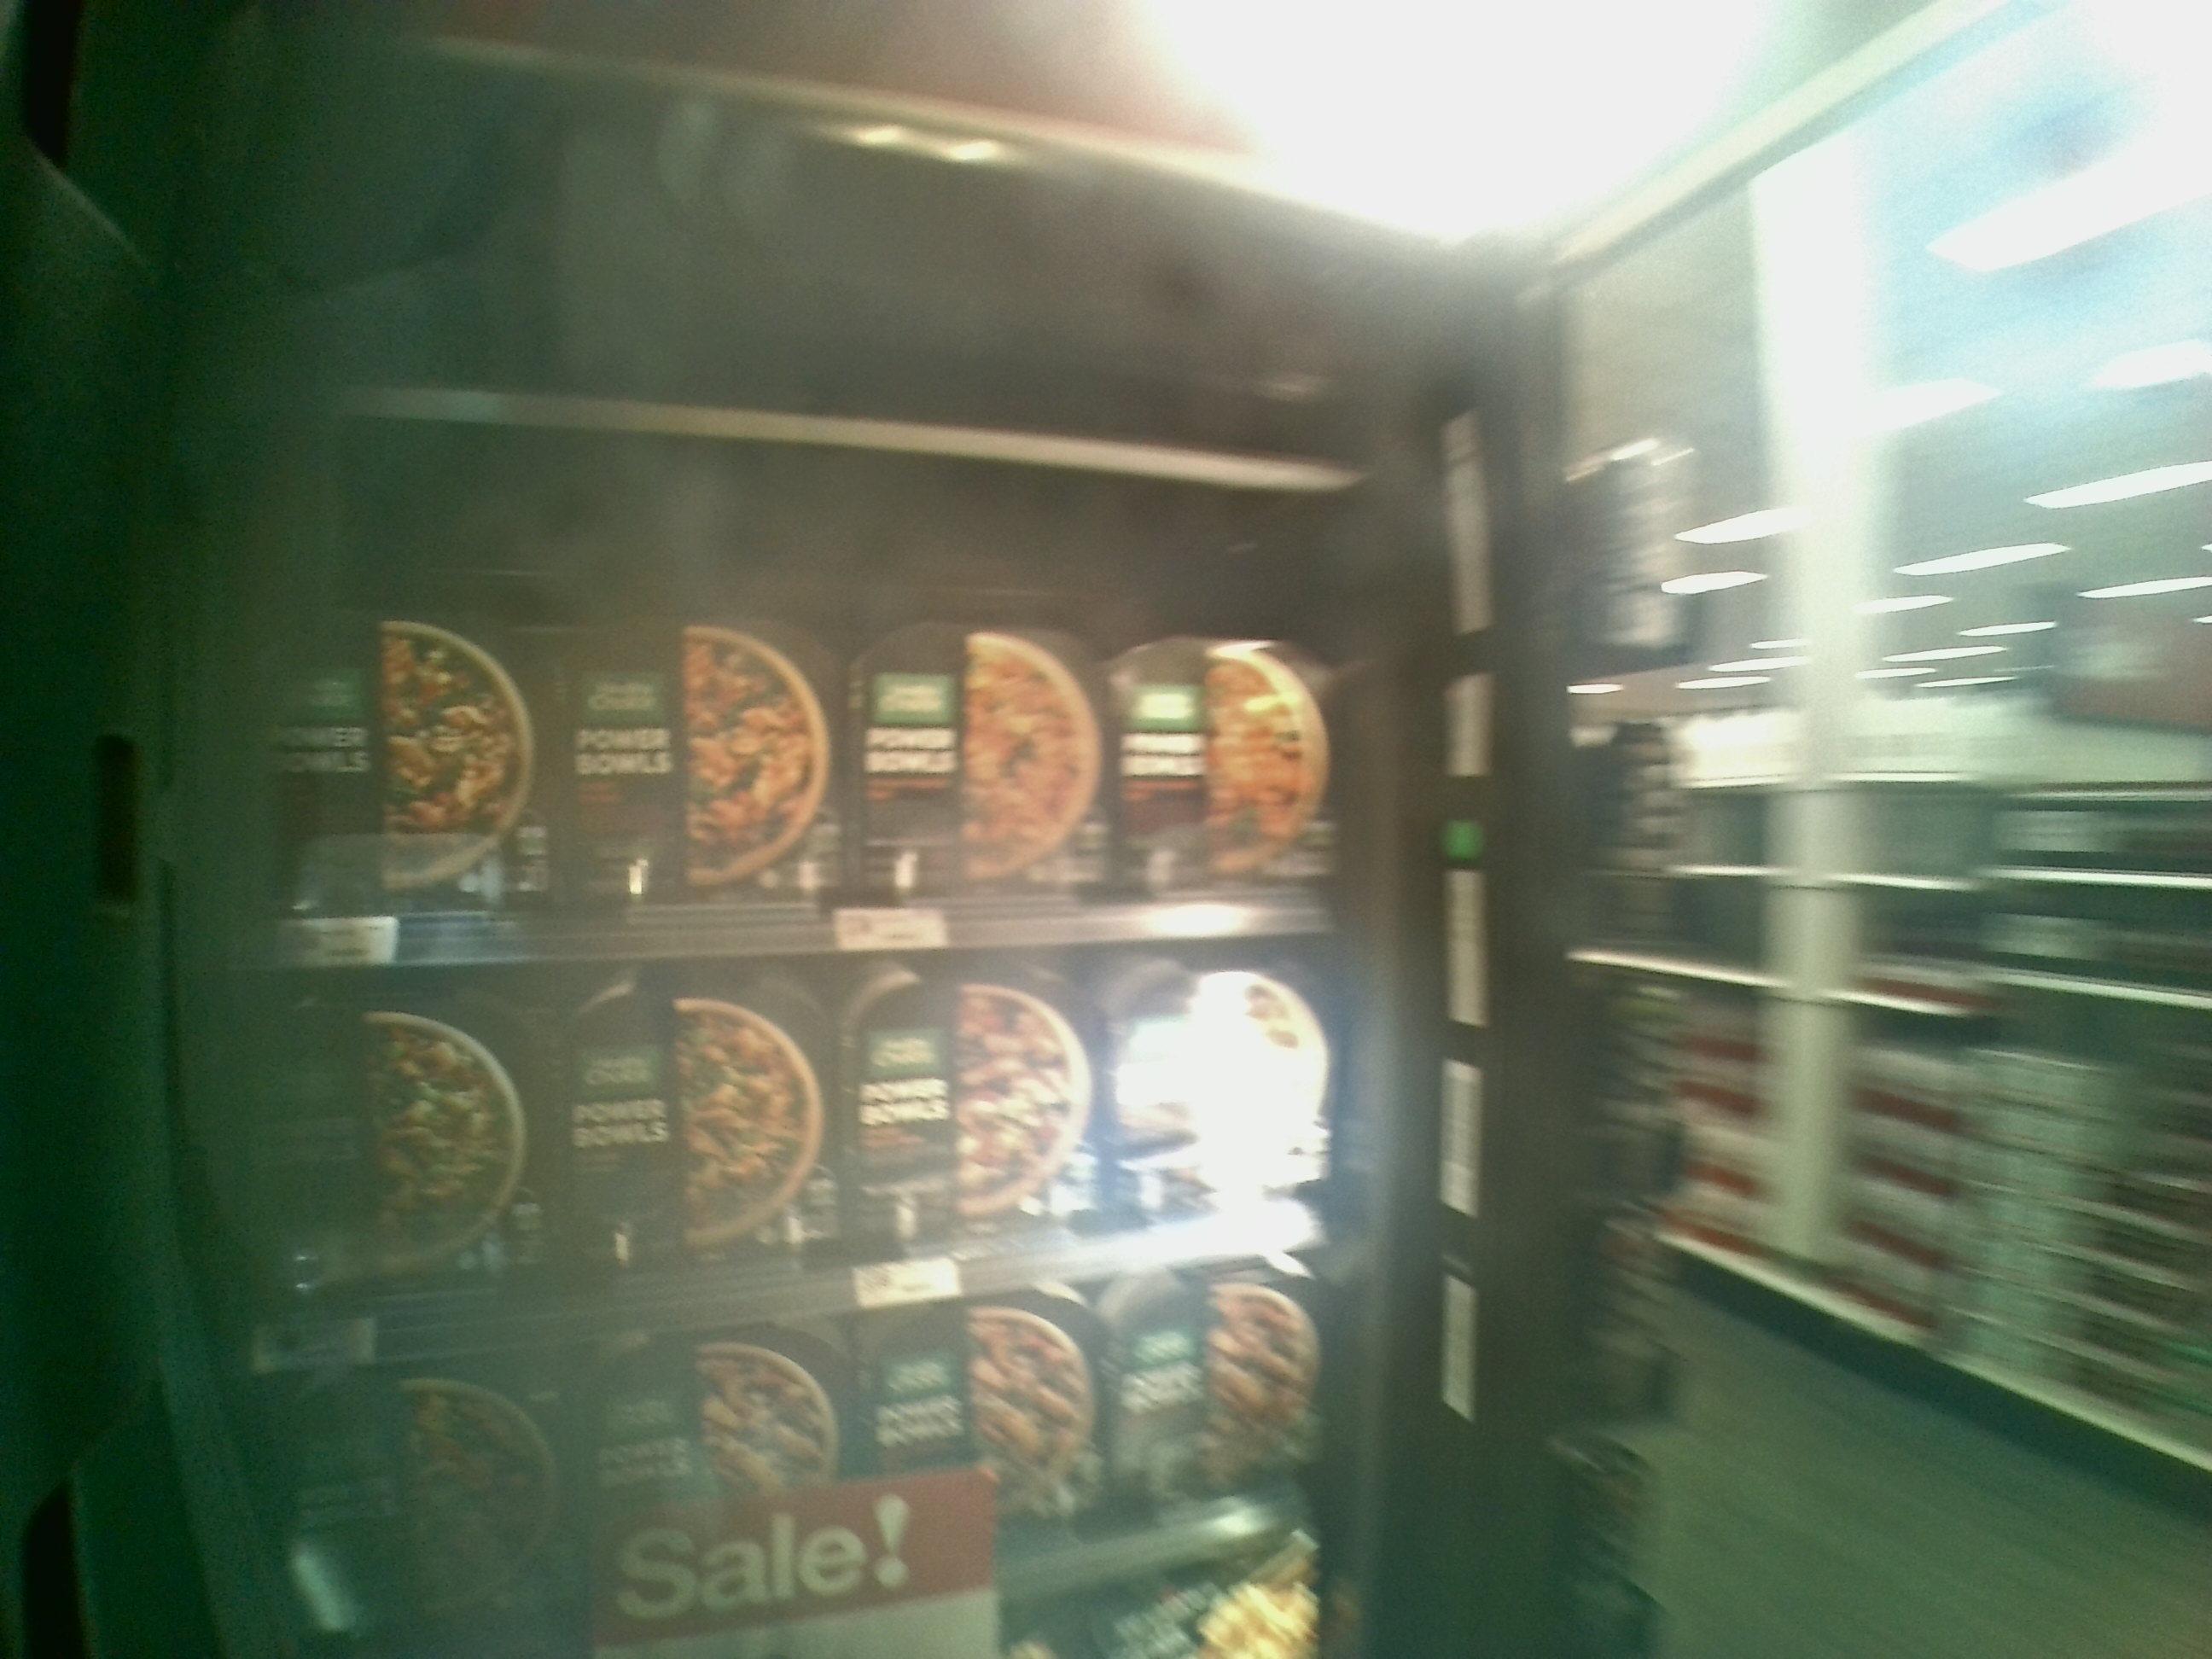shelf: (246, 380, 1355, 988), (251, 945, 1329, 1356)
